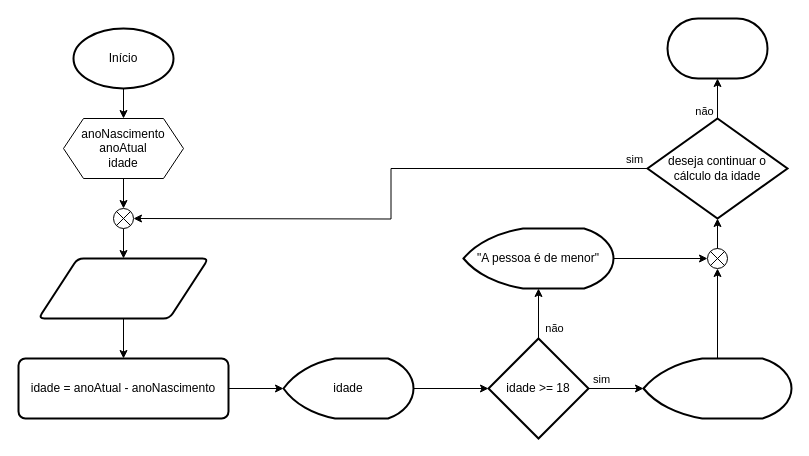
This 809x456 diagram has some shape labels left out. The shapes that lost their labels are listed below. From the top down, each one's box as (x1, y1, x2, y2) in pixels, then its label:
(666, 17, 768, 79): Fim
(37, 257, 209, 319): ler anoNascimento anoAtual
(642, 357, 792, 419): "A pessoa é de maior"
